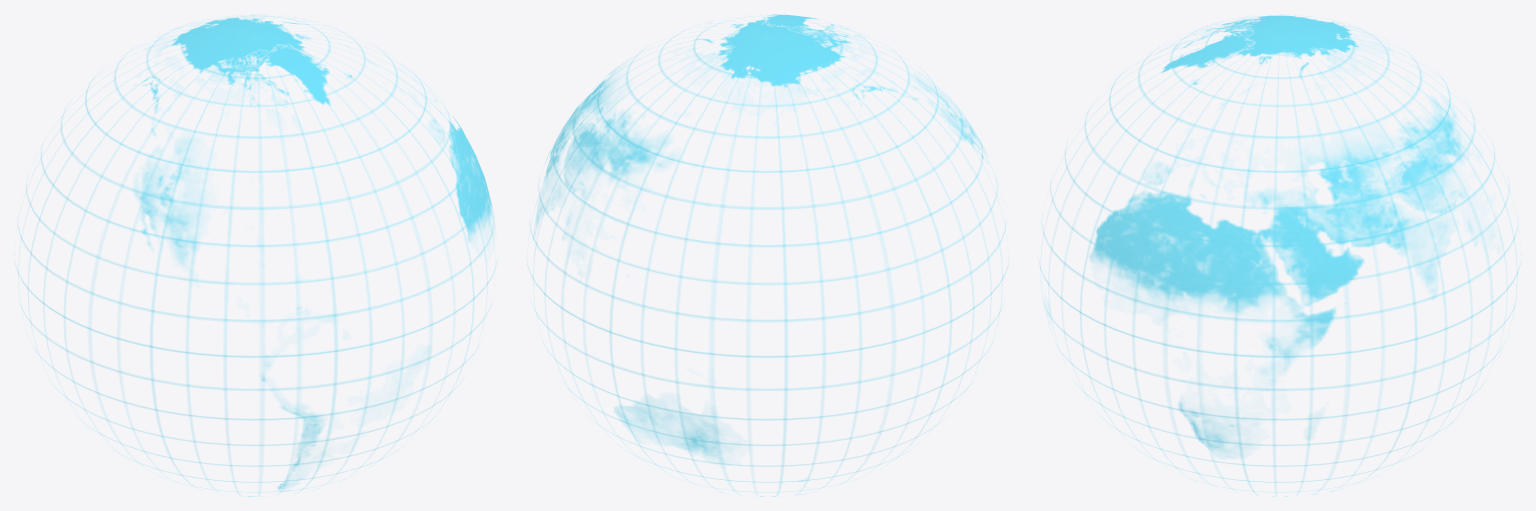
Rendered from onlyglobe-v1.glb.
3 renders of one model, left to right at view 1: azimuth 30°, elevation 25°; view 2: azimuth 150°, elevation 25°; view 3: azimuth 270°, elevation 25°, orthographic.
Visible parts, largest first — view 1: Earth globe glowing hologram; view 2: Earth globe glowing hologram; view 3: Earth globe glowing hologram.
Part boxes in pixels (bbox=[...]): Earth globe glowing hologram: bbox=[17, 15, 495, 496]; Earth globe glowing hologram: bbox=[528, 14, 1007, 496]; Earth globe glowing hologram: bbox=[1040, 15, 1517, 496].
Size of the model in its own units: 0.9394 by 0.9397 by 0.9394.
Materials: 1 (1 with a texture image).
